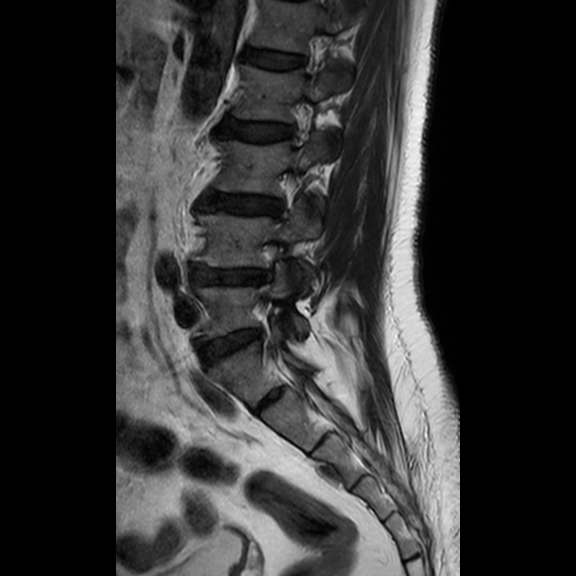LFS0: (274, 94, 315, 157), (293, 27, 334, 83)
